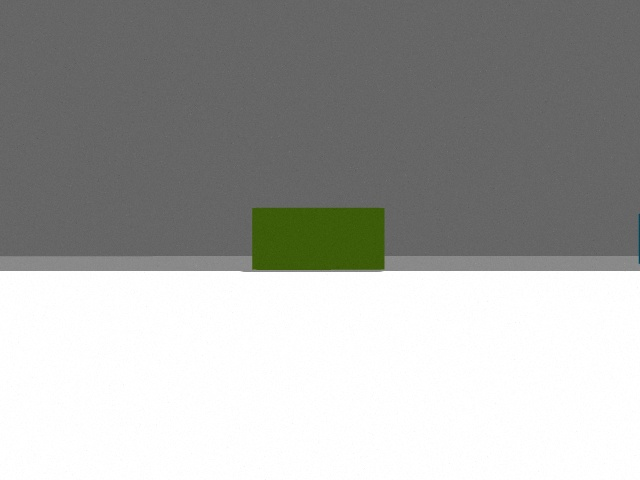green_drop_zone: (252, 208, 385, 270)
